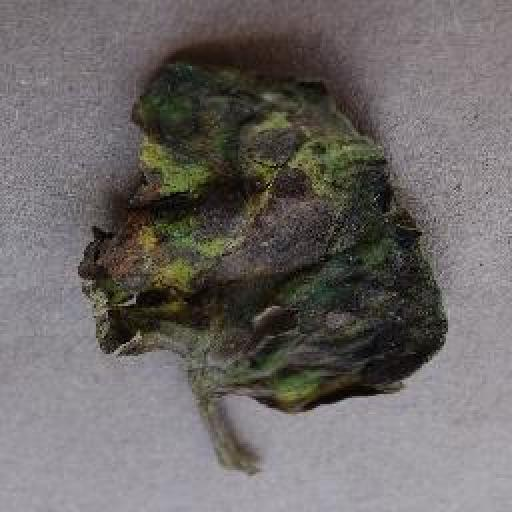Early Blight: (74, 53, 452, 420)
